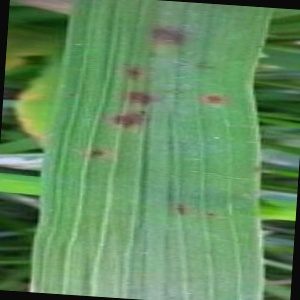Bacterial_Leaf_Blight: (146, 19, 203, 51), (109, 104, 157, 135), (123, 86, 166, 111), (116, 62, 148, 86), (85, 142, 112, 165), (200, 89, 227, 111), (171, 199, 192, 220), (204, 207, 219, 221)
